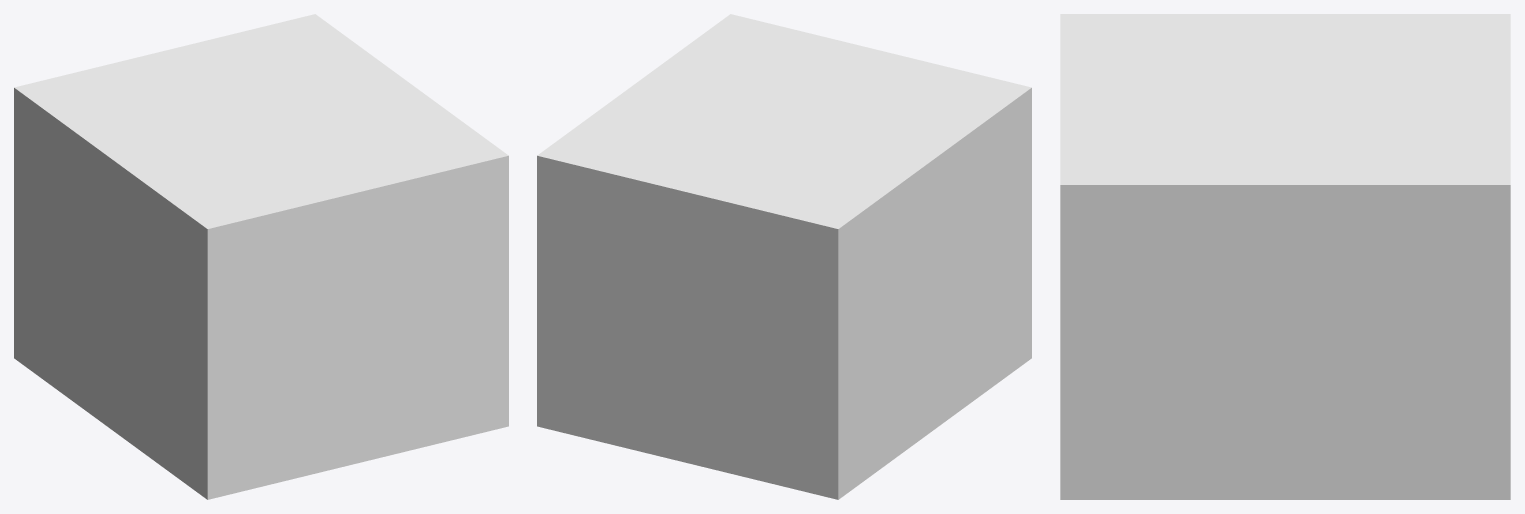
The model's file is GGene_GN_Building_v0(4.1up)_instance_moved_instanced-transformed.glb.
The picture shows the model from 3 angles, left to right: view 1: azimuth 30°, elevation 25°; view 2: azimuth 150°, elevation 25°; view 3: azimuth 270°, elevation 25°; orthographic projection. The views are drawn at different scales.
Visible parts, largest first — view 1: FOG; view 2: FOG; view 3: FOG.
Part boxes in pixels (<box>): FOG: <box>14,14,508,499</box>; FOG: <box>537,14,1031,499</box>; FOG: <box>1060,14,1510,499</box>.
Size of what is drawn, in the model's own units: 2341 by 2010 by 2605.
17 materials, 17 textured.
